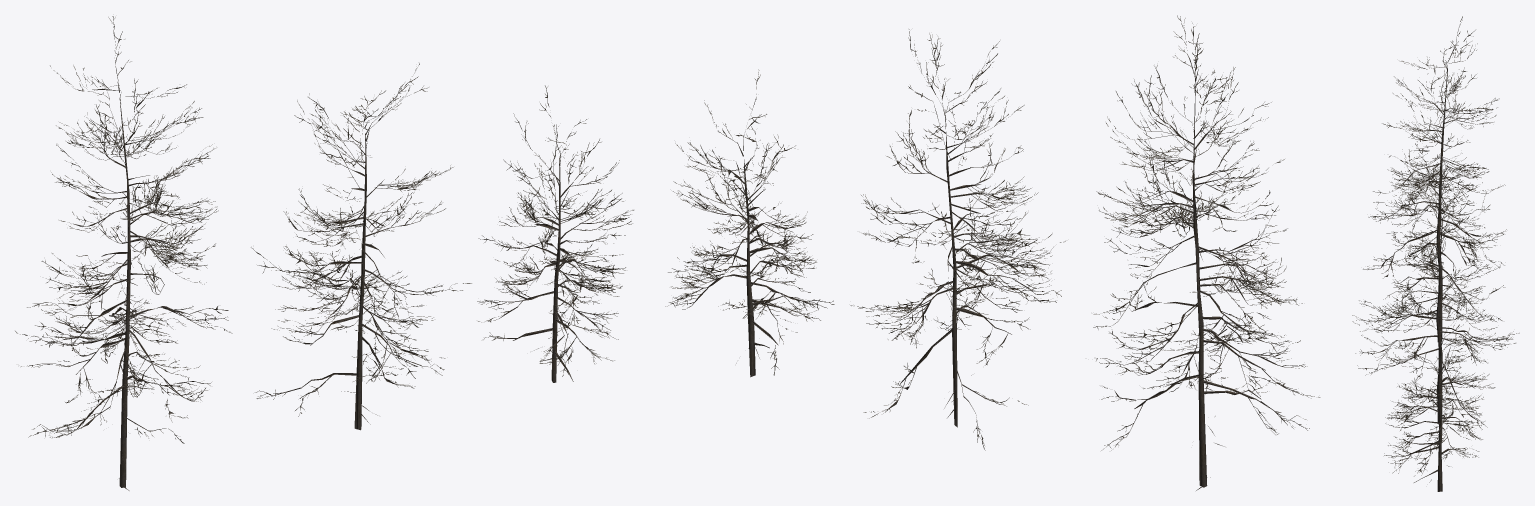
The model's file is pine_sapling_medium_mid.glb.
3 views of the same model, side by side, from view 1: azimuth 30°, elevation 25°; view 2: azimuth 150°, elevation 25°; view 3: azimuth 270°, elevation 25° (orthographic). The views are drawn at different scales.
Size of the model in its own units: 15.4 by 11.42 by 5.25.
Materials: 3 (3 with a texture image).
